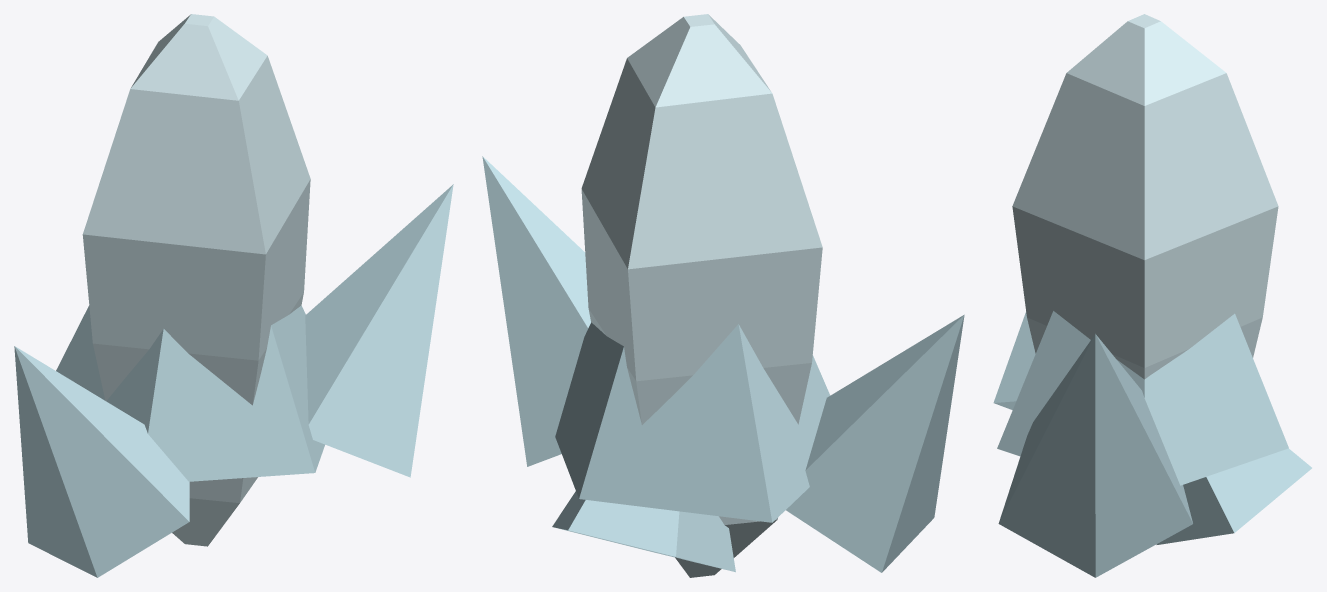
Rendered from tower-frost-parts.glb.
The picture shows the model from 3 angles, left to right: view 1: azimuth 30°, elevation 25°; view 2: azimuth 150°, elevation 25°; view 3: azimuth 270°, elevation 25°; orthographic projection. The views are drawn at different scales.
Visible parts, largest first — view 1: crown, petal; view 2: crown, petal; view 3: petal, crown.
Boxes of the visible parts, left/top/right/bottom form: crown: left=14, top=184, right=453, bottom=577; petal: left=82, top=14, right=310, bottom=546; crown: left=482, top=156, right=964, bottom=572; petal: left=581, top=14, right=822, bottom=577; petal: left=1012, top=14, right=1278, bottom=379; crown: left=993, top=311, right=1311, bottom=577.
Size of the model in its own units: 0.6298 by 0.7 by 0.3907.
